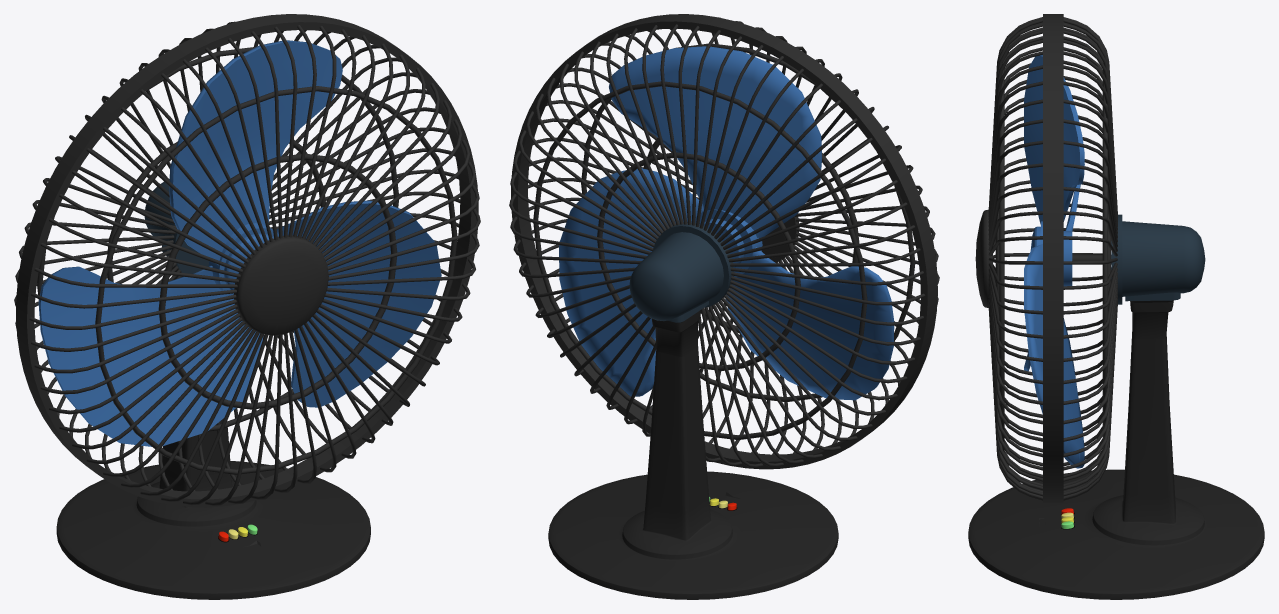
The model's file is fan.fbx.
3 renders of one model, left to right at view 1: azimuth 30°, elevation 25°; view 2: azimuth 150°, elevation 25°; view 3: azimuth 270°, elevation 25°, orthographic. The views are drawn at different scales.
Parts seen in each view (by area): view 1: SM_Fan.002; view 2: SM_Fan.002; view 3: SM_Fan.002.
Part boxes in pixels (x1,y1,x2,y2): SM_Fan.002: (14,14,480,599); SM_Fan.002: (509,14,939,599); SM_Fan.002: (968,14,1264,599).
Bounding box in the file's own units: 40.2 × 45.37 × 24.34.
